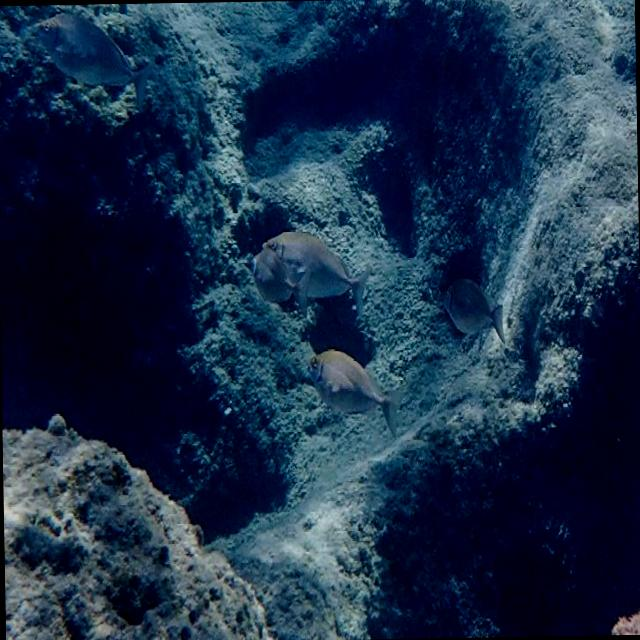Sokar Baligi: (302, 335, 409, 453), (435, 264, 515, 362)
